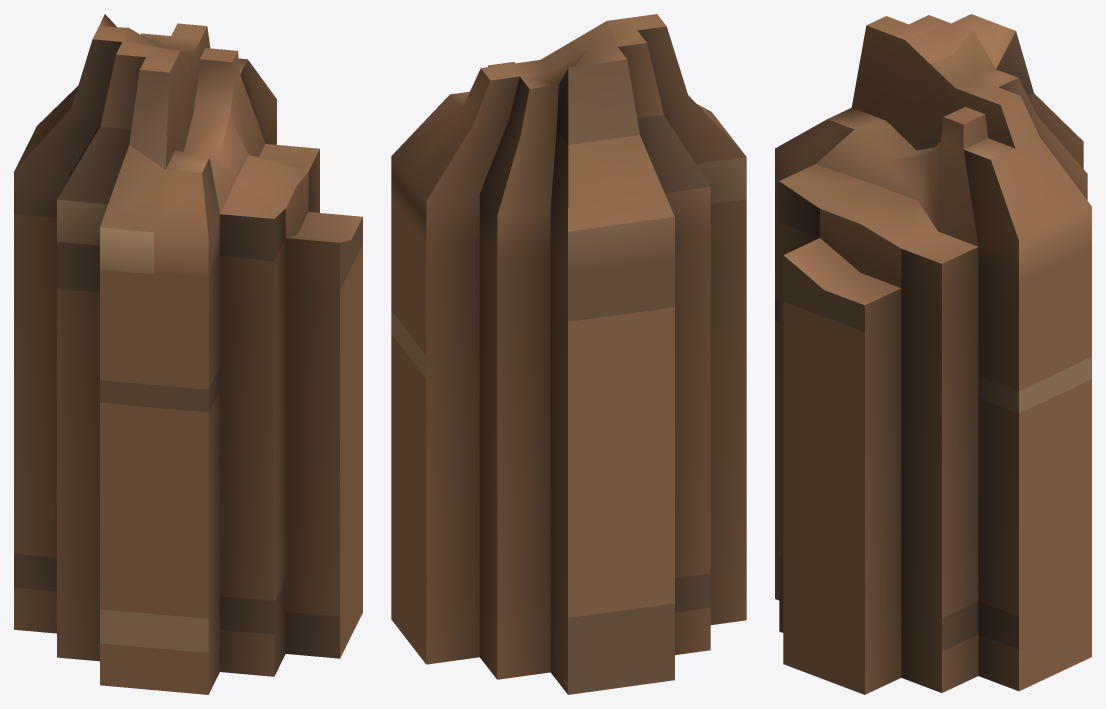
File: Ruins_TempleRuins_alt12.glb
3 renders of one model, left to right at view 1: azimuth 30°, elevation 25°; view 2: azimuth 150°, elevation 25°; view 3: azimuth 270°, elevation 25°, orthographic. The views are drawn at different scales.
Visible parts, largest first — view 1: base166; view 2: base166; view 3: base166.
Boxes of the visible parts, left/top/right/bottom form: base166: left=14, top=14, right=362, bottom=694; base166: left=391, top=14, right=746, bottom=694; base166: left=775, top=14, right=1091, bottom=694.
Bounding box in the file's own units: 4.18 × 8.41 × 4.18.
